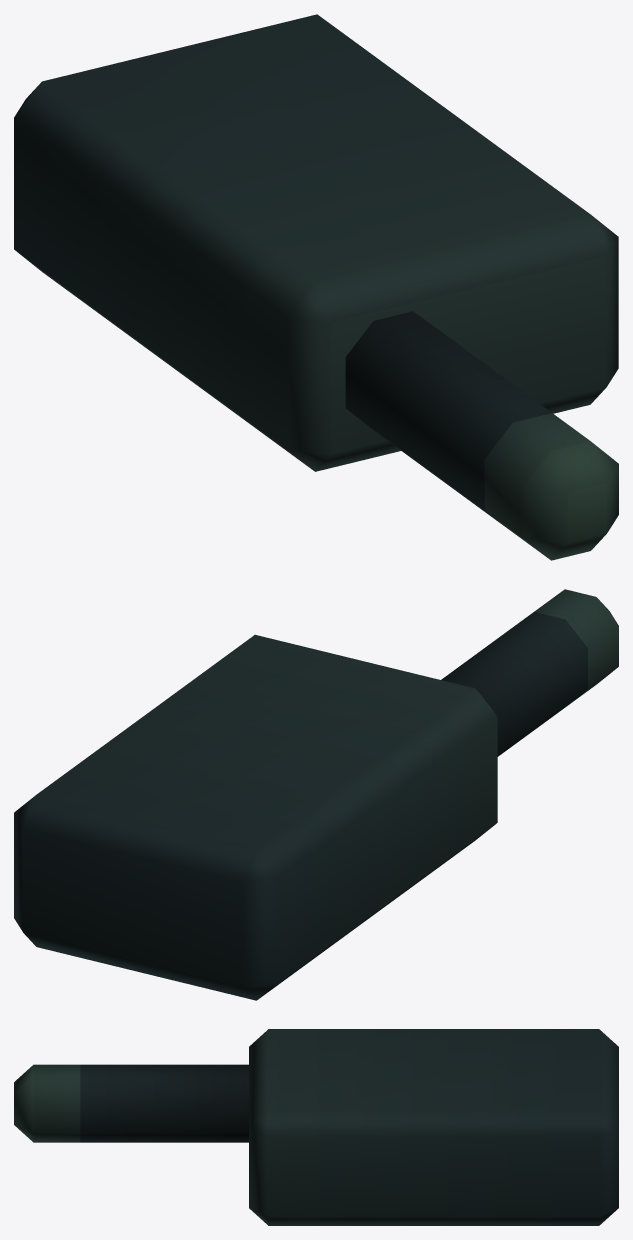
Rendered from walkitalkie.fbx.
The picture shows the model from 3 angles, top to bottom: view 1: azimuth 30°, elevation 25°; view 2: azimuth 150°, elevation 25°; view 3: azimuth 270°, elevation 25°; orthographic projection. The views are drawn at different scales.
Parts seen in each view (by area): view 1: walkitalkie; view 2: walkitalkie; view 3: walkitalkie.
Boxes of the visible parts, x1=… form: walkitalkie: x1=14, y1=14, x2=618, y2=560; walkitalkie: x1=14, y1=589, x2=618, y2=1000; walkitalkie: x1=14, y1=1029, x2=618, y2=1225.
Bounding box in the file's own units: 16.7 × 9.17 × 43.61.
Materials: 1 (1 with a texture image).
